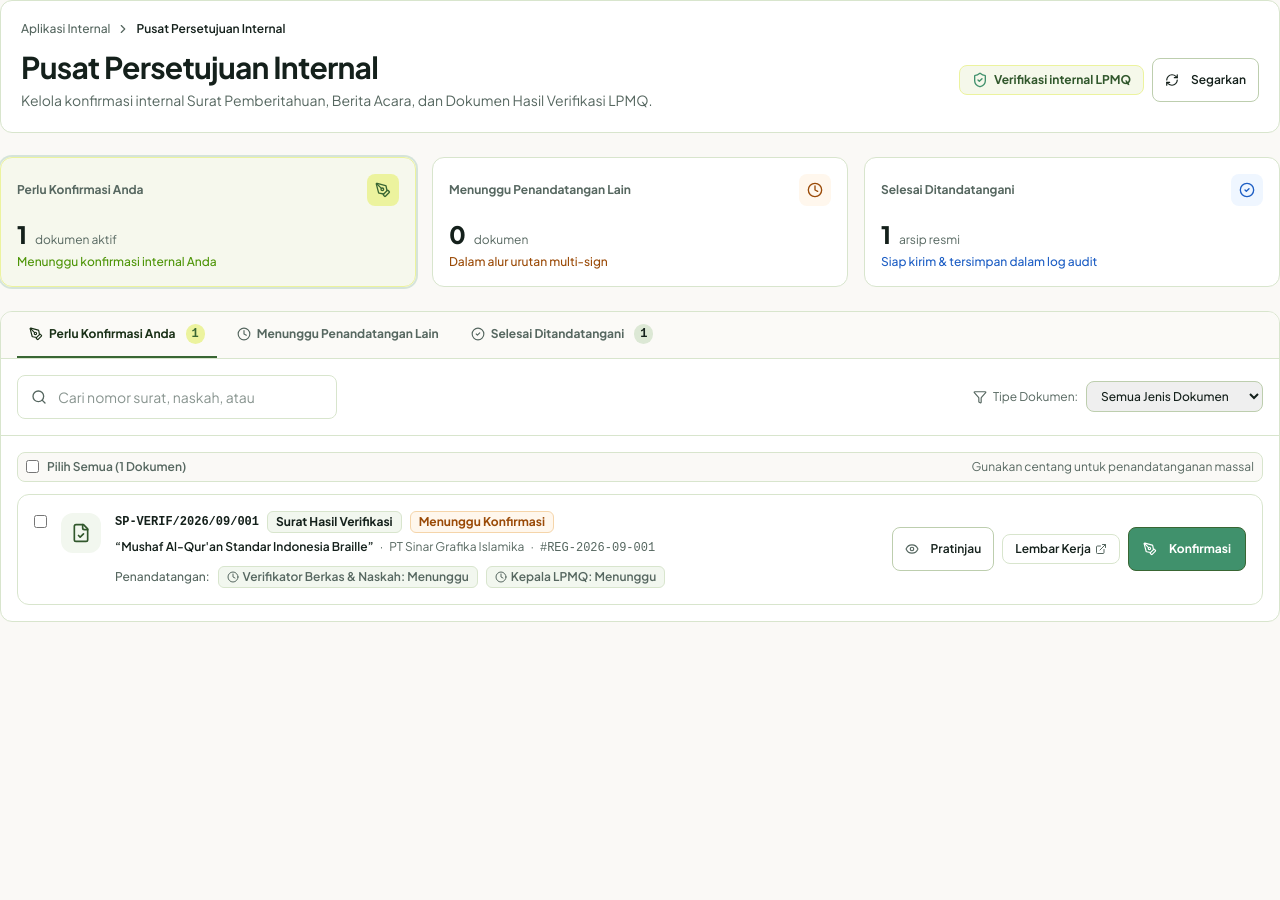
SignatureCenterPage Component › membuka ConfirmationSummaryDialog saat tombol Tanda Tangani ditekan
The width and height of the screenshot is (1280, 900).
What coordinates should you click on to do the following:
click the button "Konfirmasi"
I would click on:
 (1187, 549)
Its box is [1128,527,1246,571].
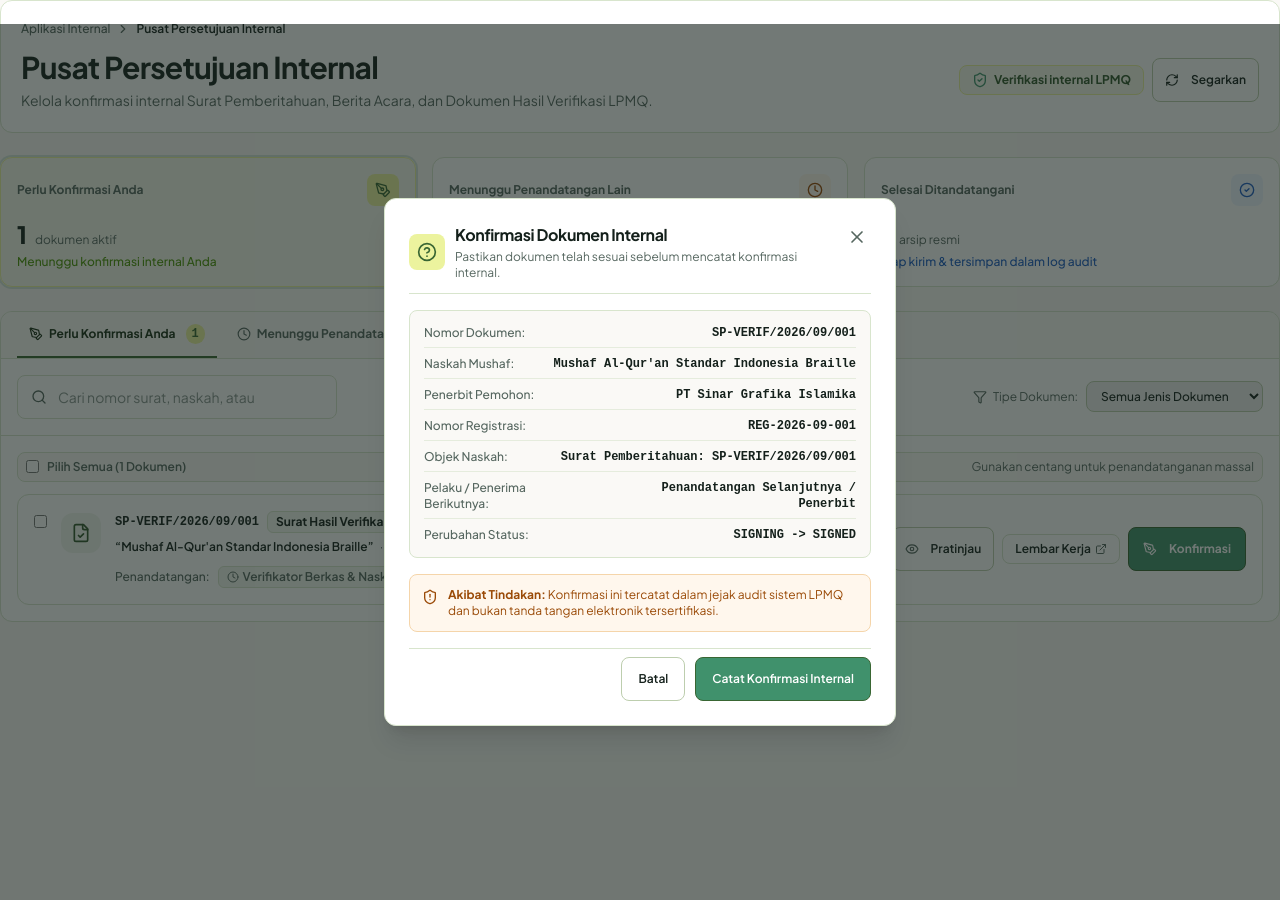
Now the heading "Konfirmasi Dokumen Internal" is shown, box [455,224,667,245]
Now the text "Konfirmasi ini tercatat dalam jejak audit" is shown, box [448,587,843,618]
Now the button "Catat Konfirmasi Internal" is shown, box [695,657,871,701]
